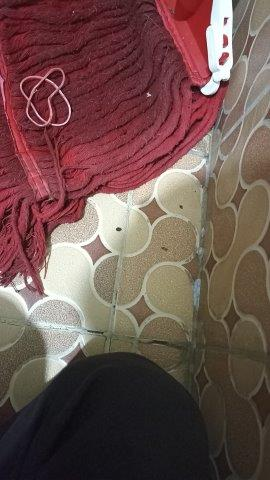karet: (19, 67, 71, 127)
